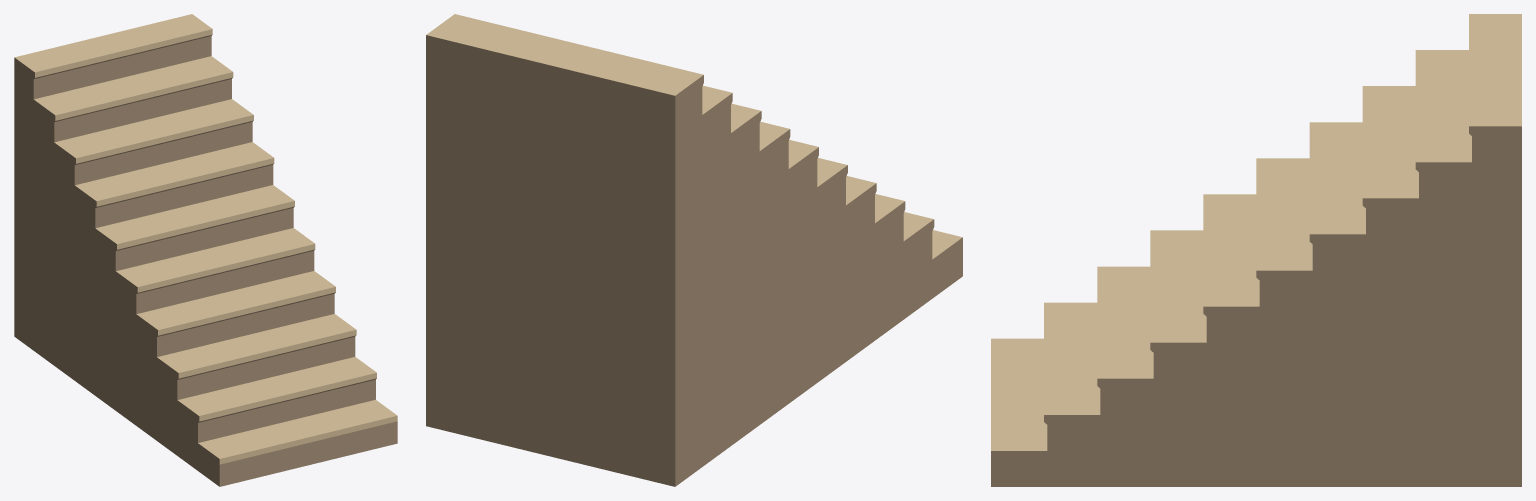
File: storey_stair.glb
The picture shows the model from 3 angles, left to right: view 1: azimuth 30°, elevation 25°; view 2: azimuth 150°, elevation 25°; view 3: azimuth 270°, elevation 25°; orthographic projection. The views are drawn at different scales.
Visible parts, largest first — view 1: Storey stair; view 2: Storey stair; view 3: Storey stair.
Part boxes in pixels (bbox=[...]): Storey stair: bbox=[14, 14, 397, 486]; Storey stair: bbox=[426, 14, 962, 486]; Storey stair: bbox=[991, 14, 1521, 486].
Size of the model in its own units: 1 by 1.5 by 2.
